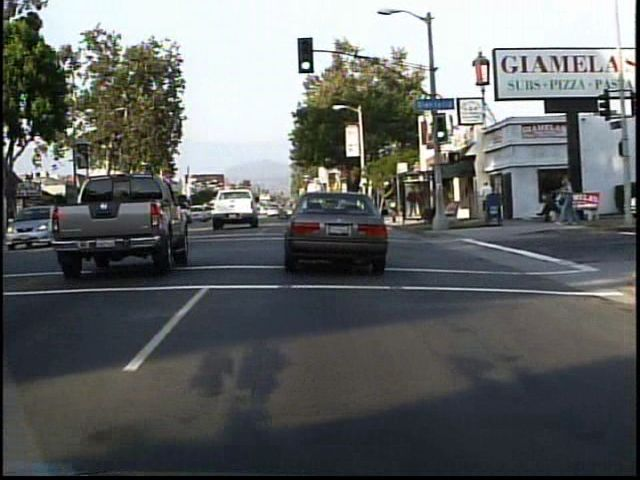car: (53, 161, 188, 278), (281, 189, 389, 277), (208, 185, 258, 231)
